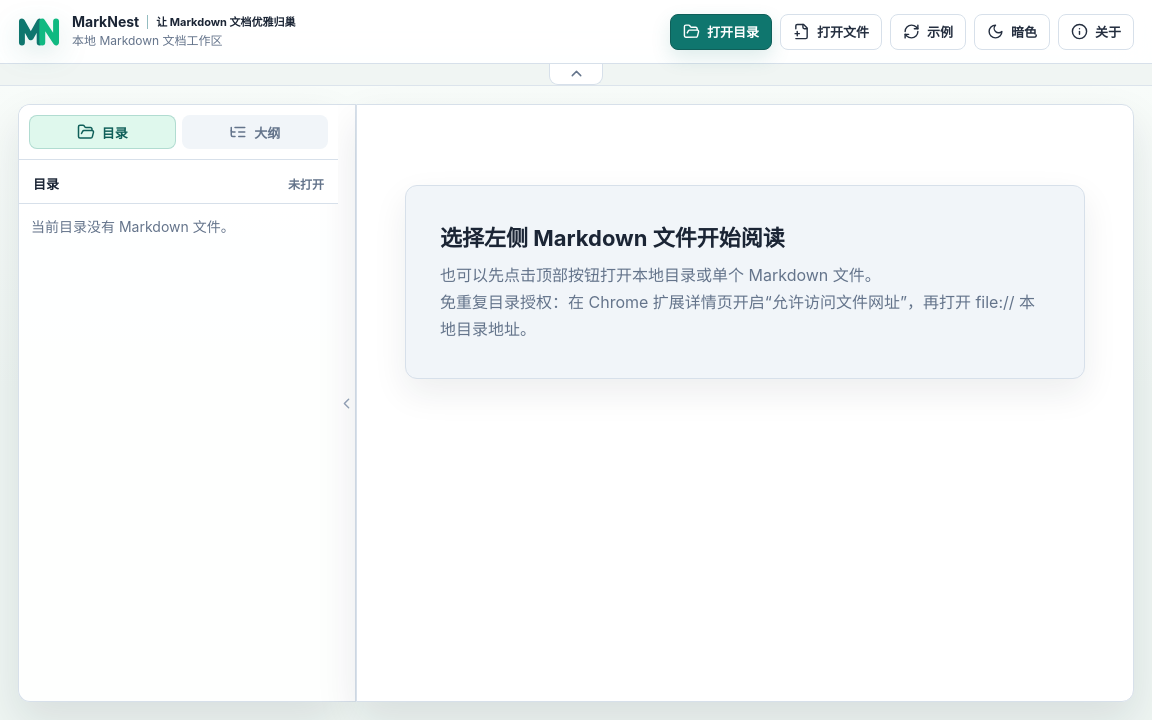
ReaderApp about panel › notice 区域支持手动关闭，并在新提示出现时重新显示
Click the button "示例" at (928, 32), box [890, 14, 966, 50]
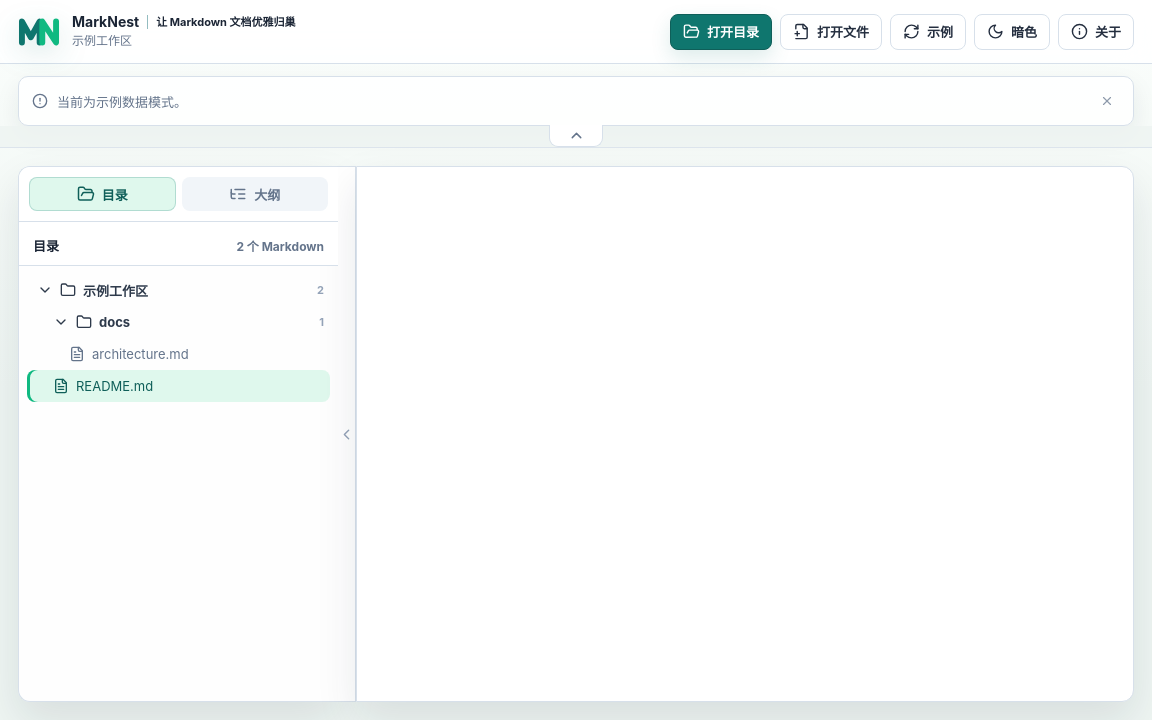
Result: the text "当前为示例数据模式。" is shown at [57, 94, 187, 110]
Click the button named "关闭提示" at (1107, 101), box [1094, 88, 1120, 114]
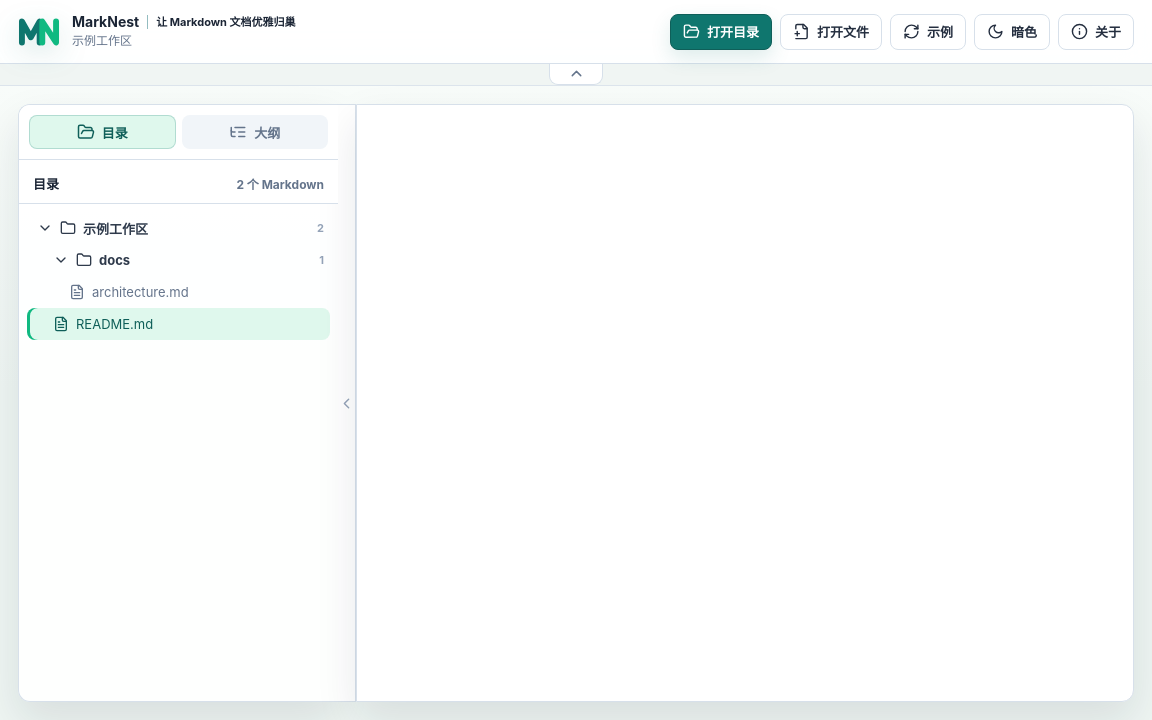
Result: the text "当前为示例数据模式。" is gone
Click the button "打开文件" at (831, 32), box [780, 14, 882, 50]
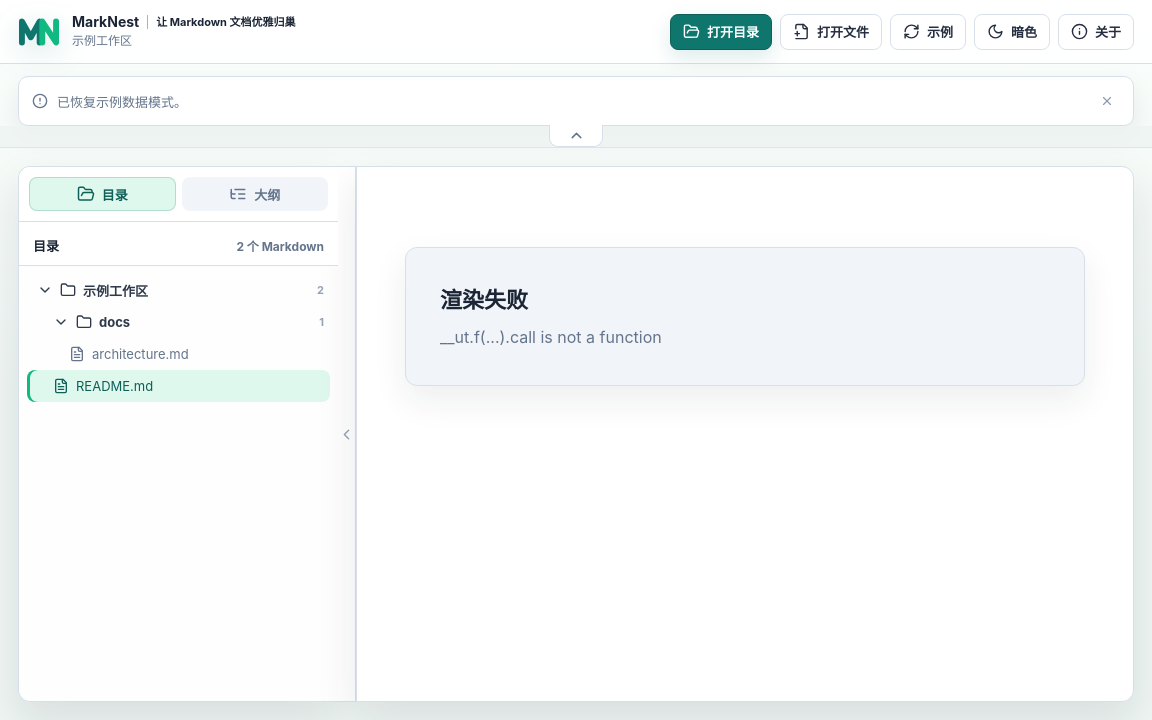
Result: the text "已恢复示例数据模式。" is shown at [57, 94, 187, 110]
